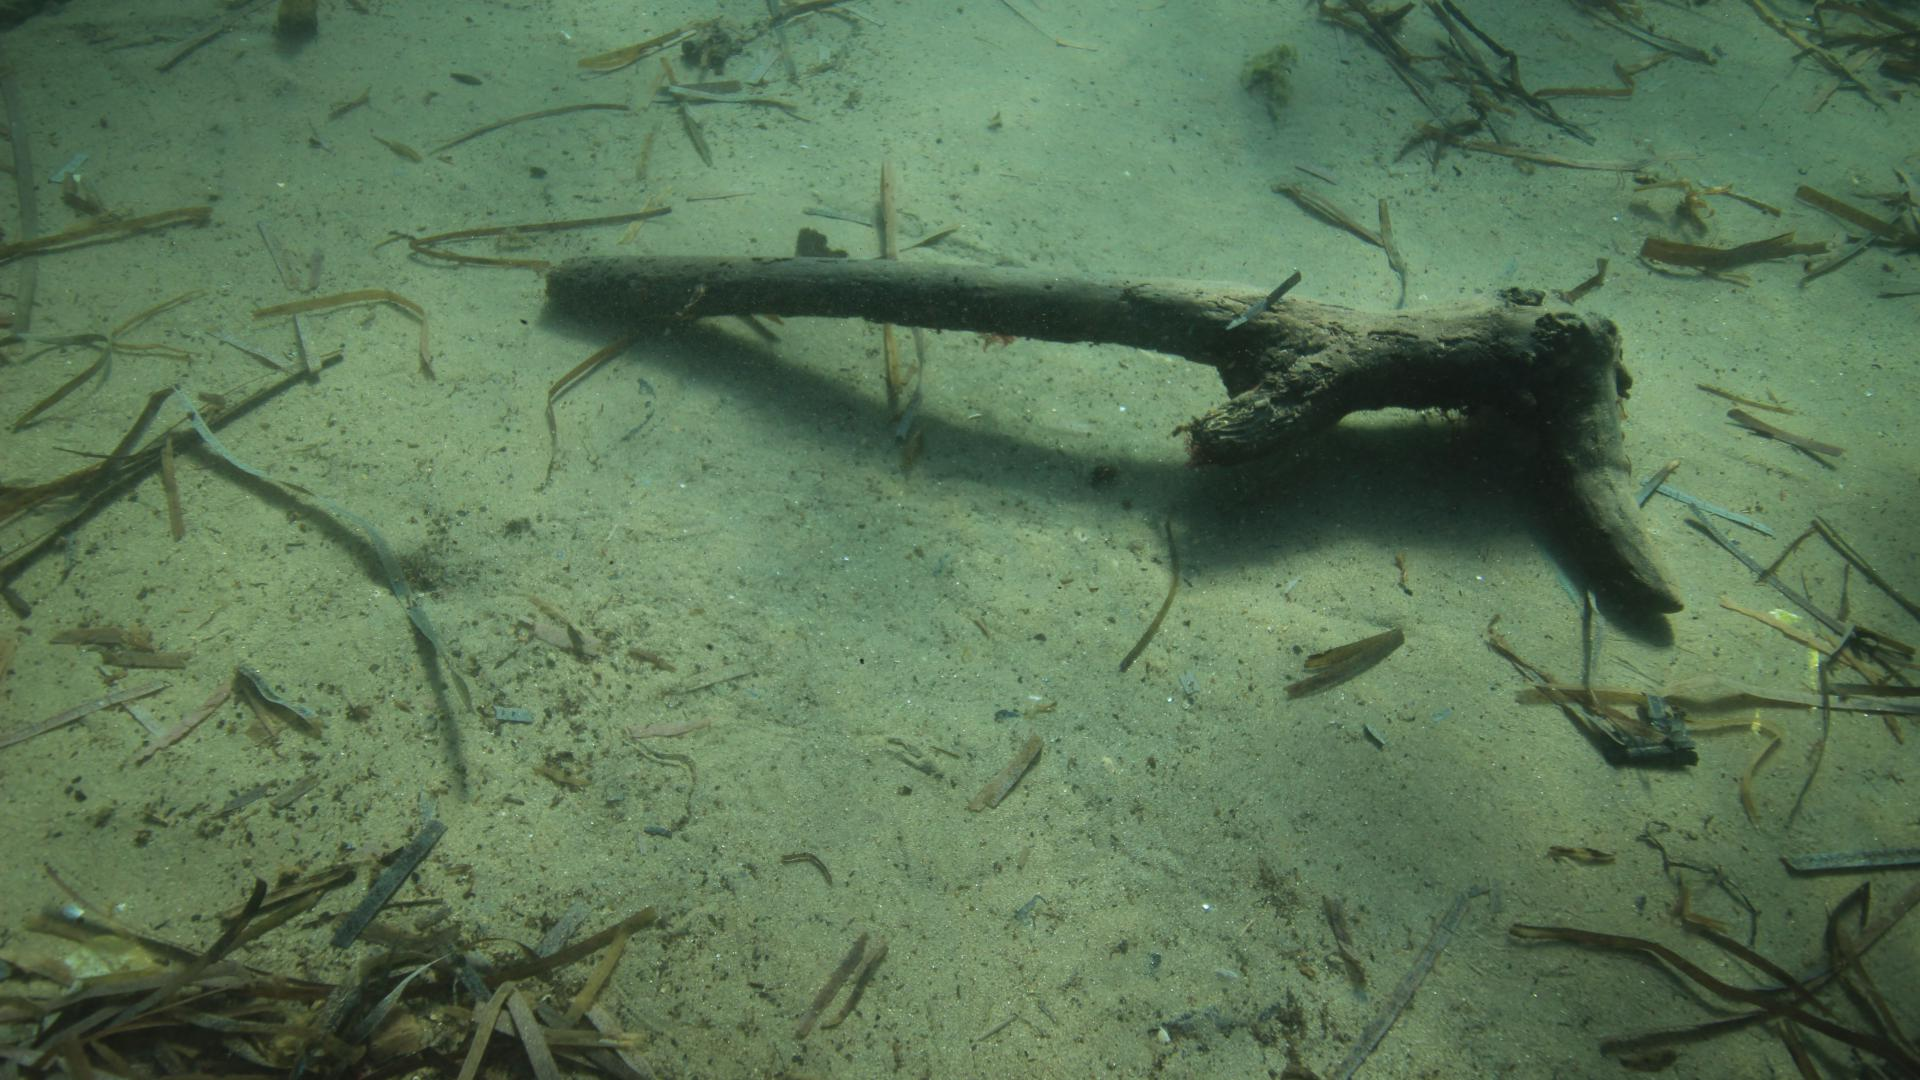wood: (542, 252, 1687, 615)
